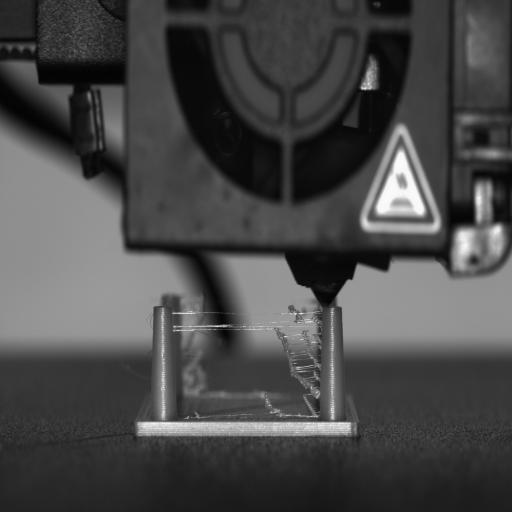spaghetti_and_stringing: (150, 294, 328, 424)
